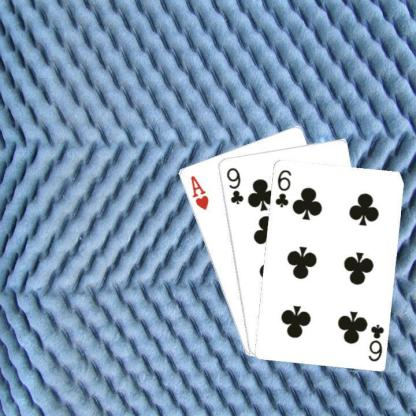6C: (272, 166, 292, 208), (366, 322, 385, 362)
9C: (223, 164, 244, 206)
AH: (187, 173, 210, 211)
